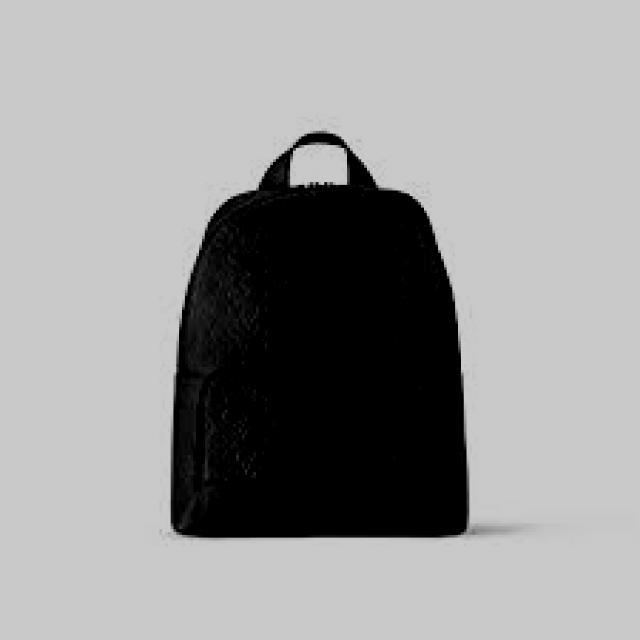backpack: (169, 129, 471, 539)
